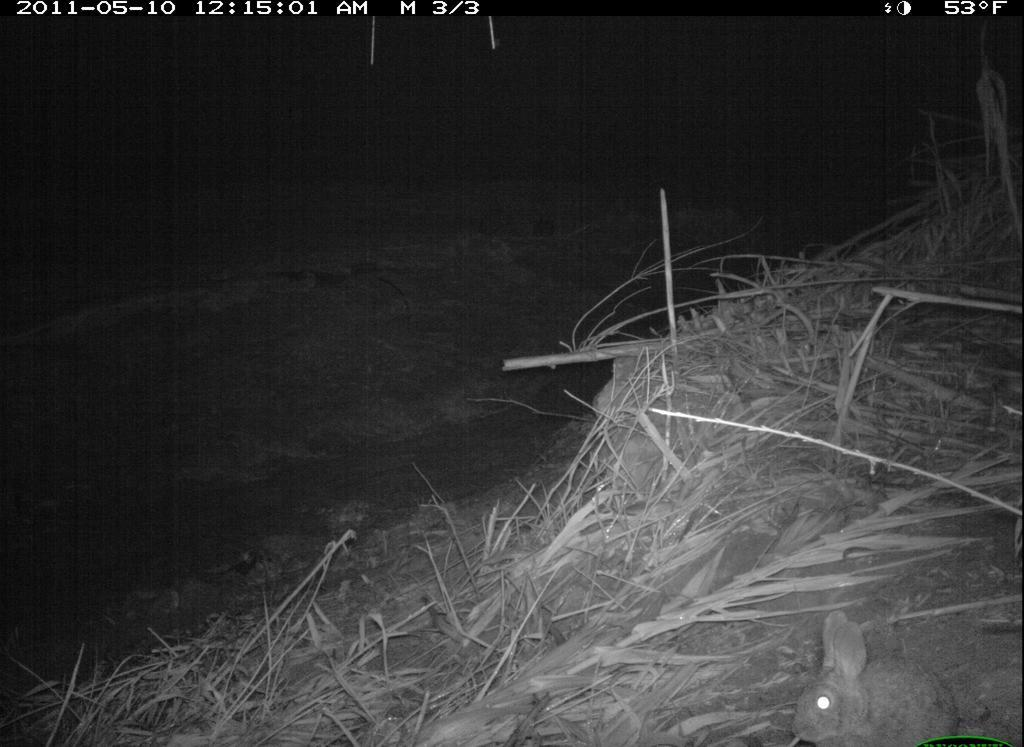rabbit: (784, 602, 967, 747)
